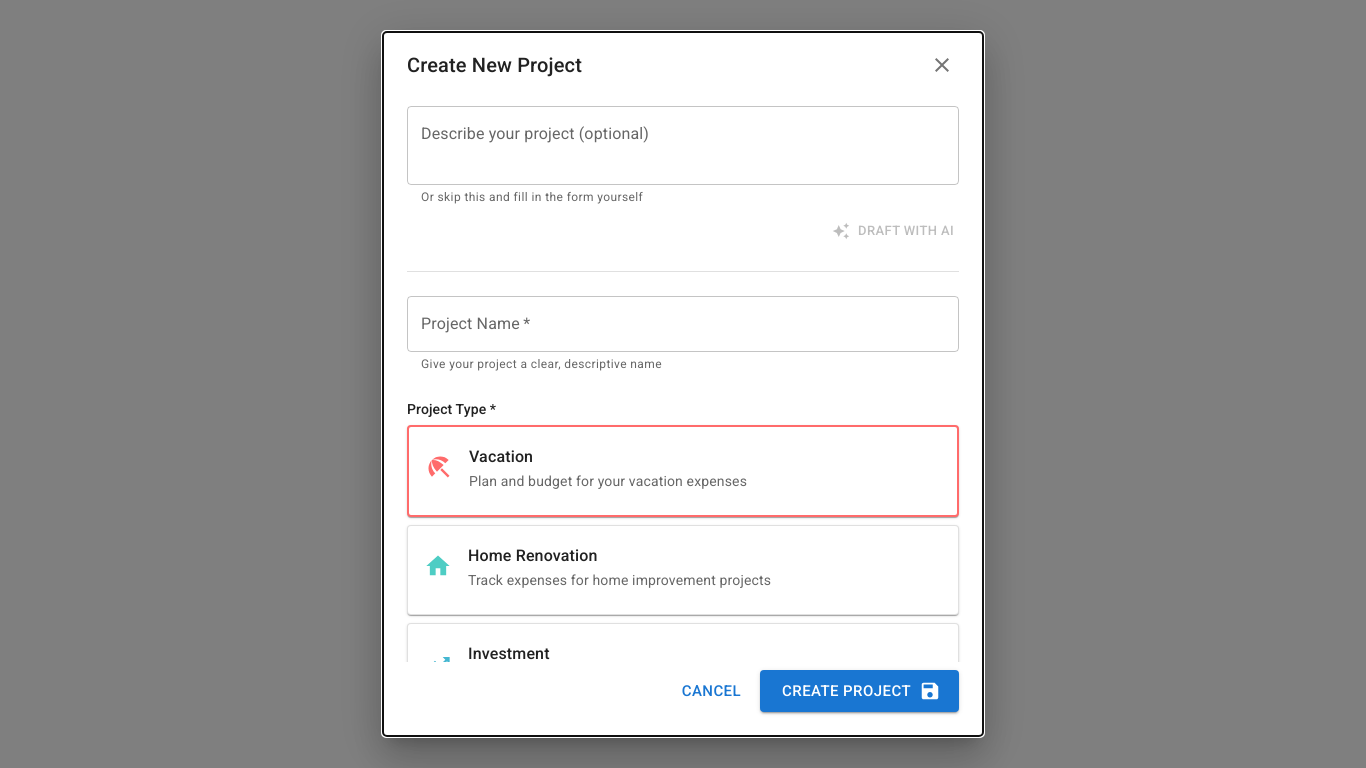
SimpleProjectCreationDialog drafting › shows what the drafter had to leave out
The width and height of the screenshot is (1366, 768).
Type "renovating the kitchen" into the text box labelled "Describe your project (optional)".
click(683, 146); type("renovating the kitchen")  # box [421, 122, 945, 168]
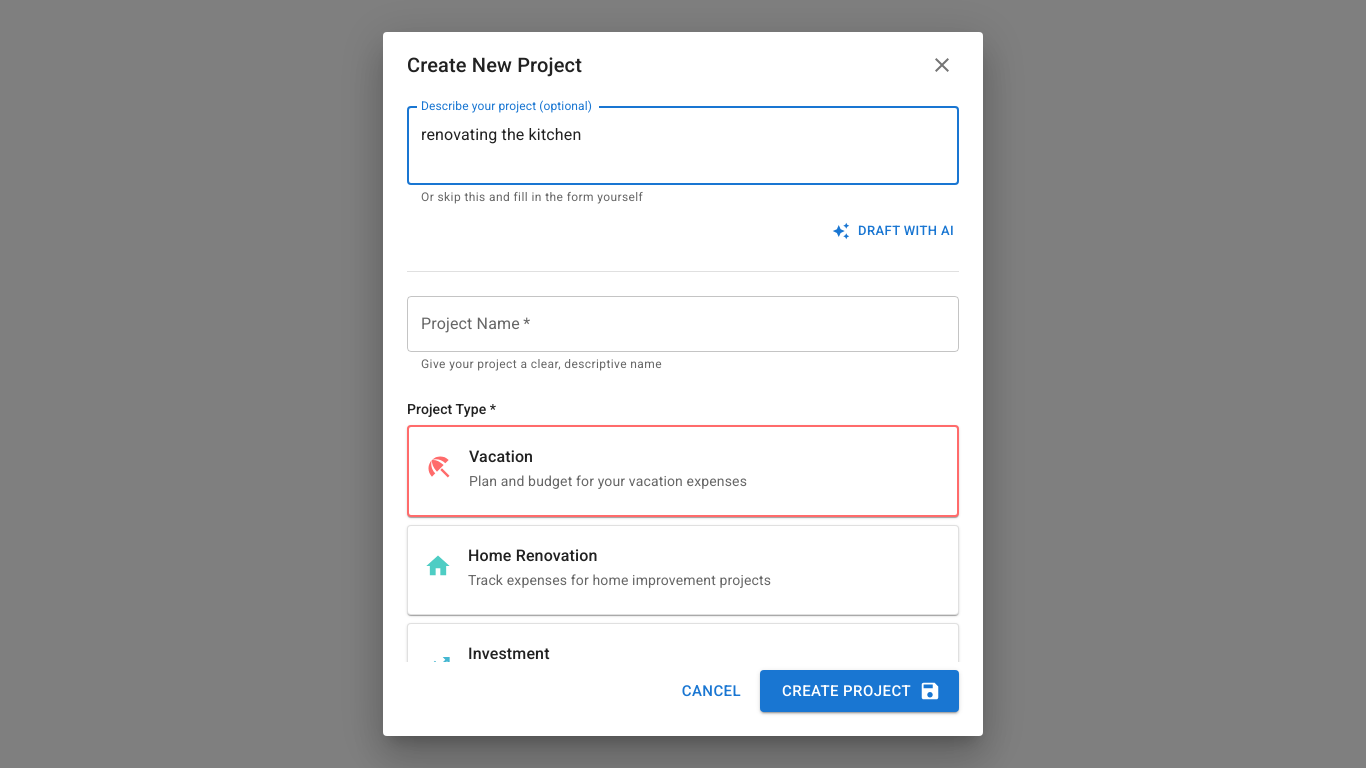
Click the button "Draft with AI".
click(894, 231)  # box [829, 216, 959, 247]
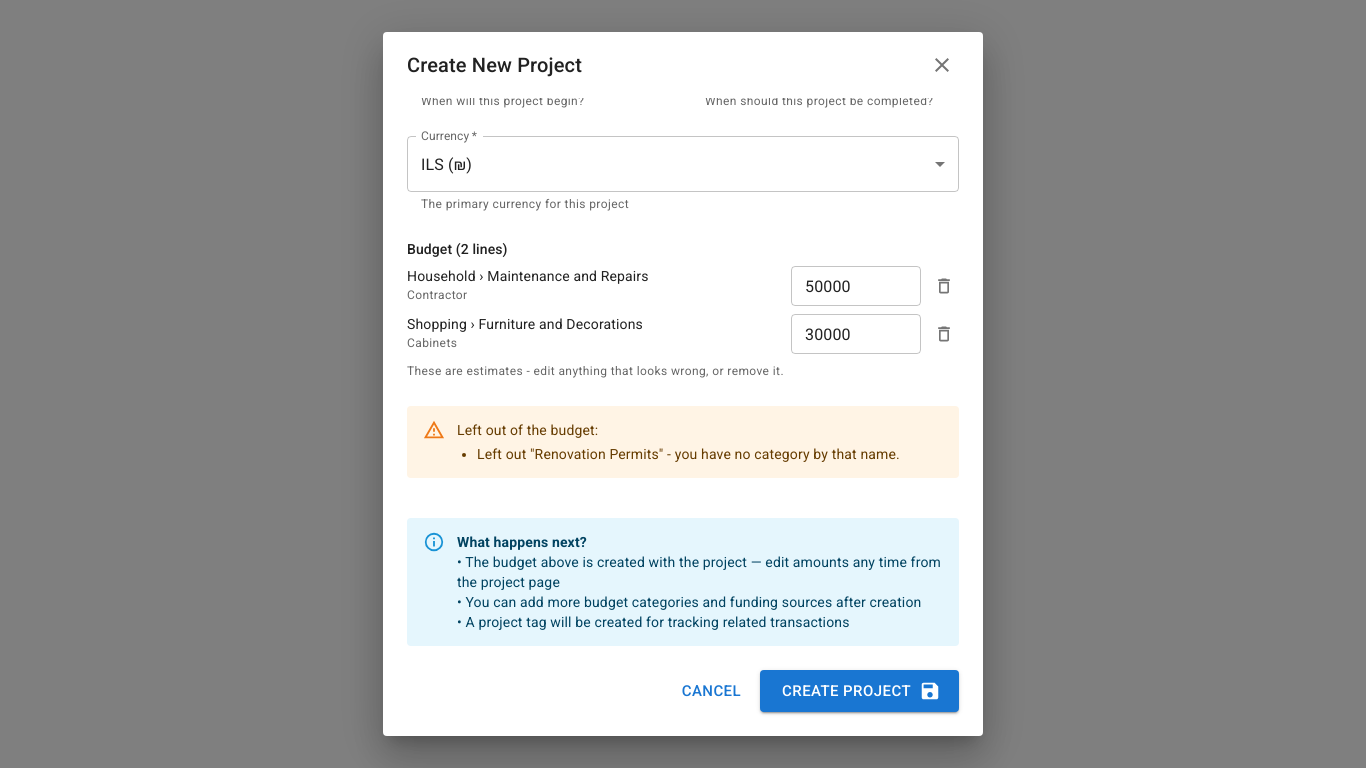
Expected: the list item "Renovation Permits" is shown, [477, 446, 900, 462]
